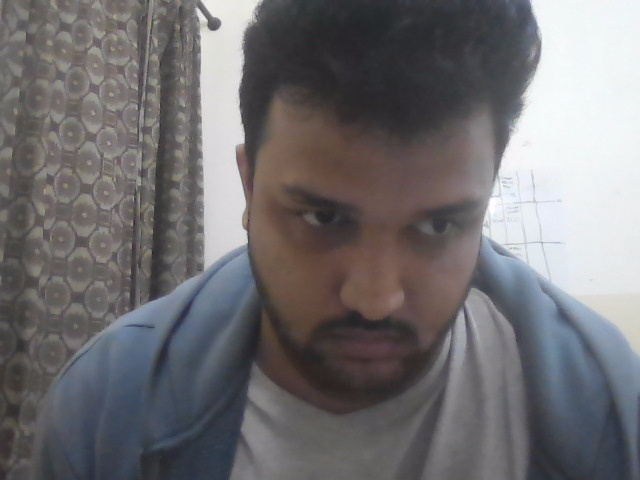awake: (193, 37, 530, 393)
